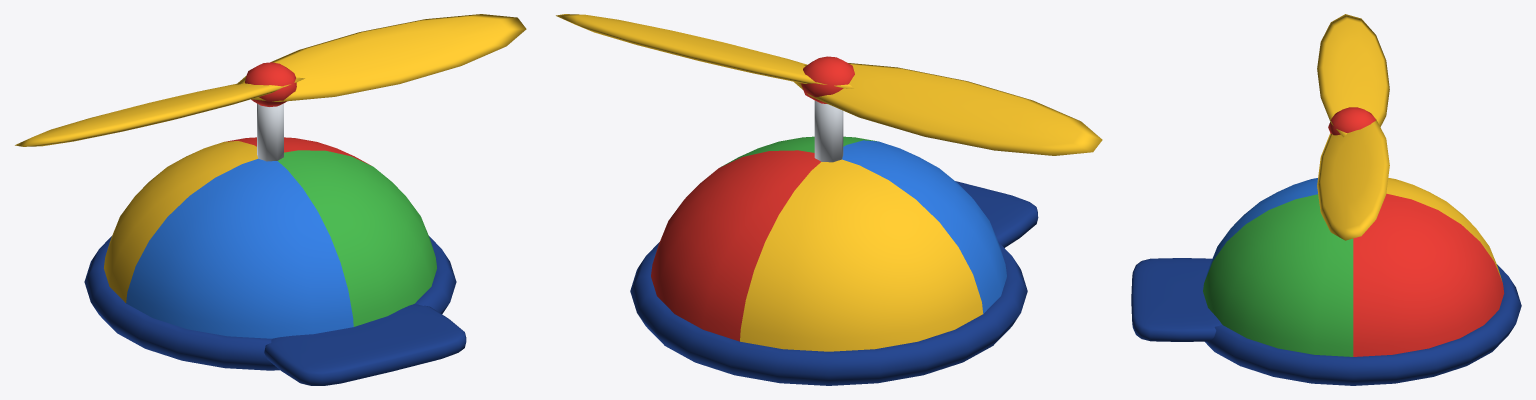
Rendered from propeller_hat.glb.
The picture shows the model from 3 angles, left to right: view 1: azimuth 30°, elevation 25°; view 2: azimuth 150°, elevation 25°; view 3: azimuth 270°, elevation 25°; orthographic projection. The views are drawn at different scales.
Parts seen in each view (by area): view 1: Cap, Prop; view 2: Cap, Prop; view 3: Cap, Prop.
Part boxes in pixels (x1,y1,x2,y2): Cap: [84, 103, 466, 385]; Prop: [15, 14, 526, 146]; Cap: [630, 100, 1038, 385]; Prop: [556, 14, 1102, 155]; Cap: [1131, 178, 1521, 385]; Prop: [1317, 14, 1389, 240].
Size of the model in its own units: 0.828 by 0.3617 by 0.615.
